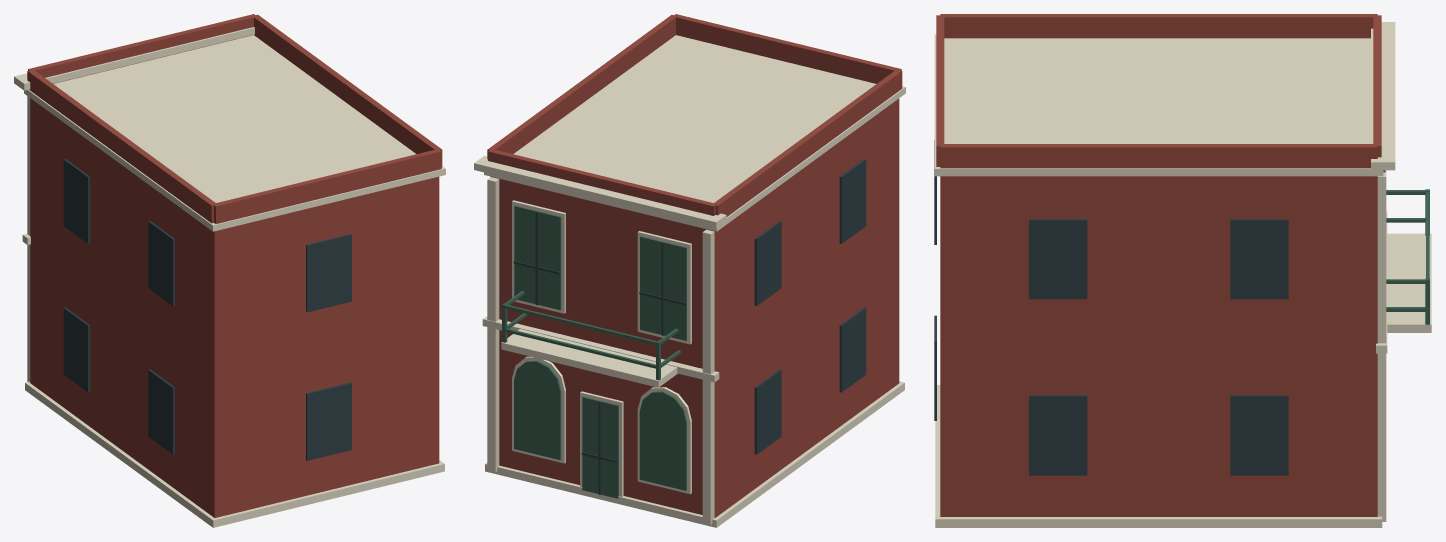
File: KOL_T3_OLD_01.fbx
3 renders of one model, left to right at view 1: azimuth 30°, elevation 25°; view 2: azimuth 150°, elevation 25°; view 3: azimuth 270°, elevation 25°, orthographic. The views are drawn at different scales.
Visible parts, largest first — view 1: KOL_T3_OLD_01__Body, KOL_T3_OLD_01__Trim, KOL_T3_OLD_01__Dark; view 2: KOL_T3_OLD_01__Body, KOL_T3_OLD_01__Trim, KOL_T3_OLD_01__Accent, KOL_T3_OLD_01__Dark; view 3: KOL_T3_OLD_01__Body, KOL_T3_OLD_01__Trim, KOL_T3_OLD_01__Dark, KOL_T3_OLD_01__Accent.
Part boxes in pixels (x1,y1,x2,y2): KOL_T3_OLD_01__Body: (27, 14, 442, 517); KOL_T3_OLD_01__Trim: (14, 27, 445, 527); KOL_T3_OLD_01__Dark: (63, 159, 351, 460); KOL_T3_OLD_01__Body: (487, 14, 902, 517); KOL_T3_OLD_01__Trim: (474, 35, 905, 527); KOL_T3_OLD_01__Accent: (502, 205, 686, 498); KOL_T3_OLD_01__Dark: (513, 159, 866, 494); KOL_T3_OLD_01__Body: (936, 14, 1381, 516); KOL_T3_OLD_01__Trim: (934, 22, 1431, 527); KOL_T3_OLD_01__Dark: (934, 140, 1384, 475); KOL_T3_OLD_01__Accent: (1383, 170, 1429, 324).
Size of the model in its own units: 20.5 by 25.9 by 30.72.
